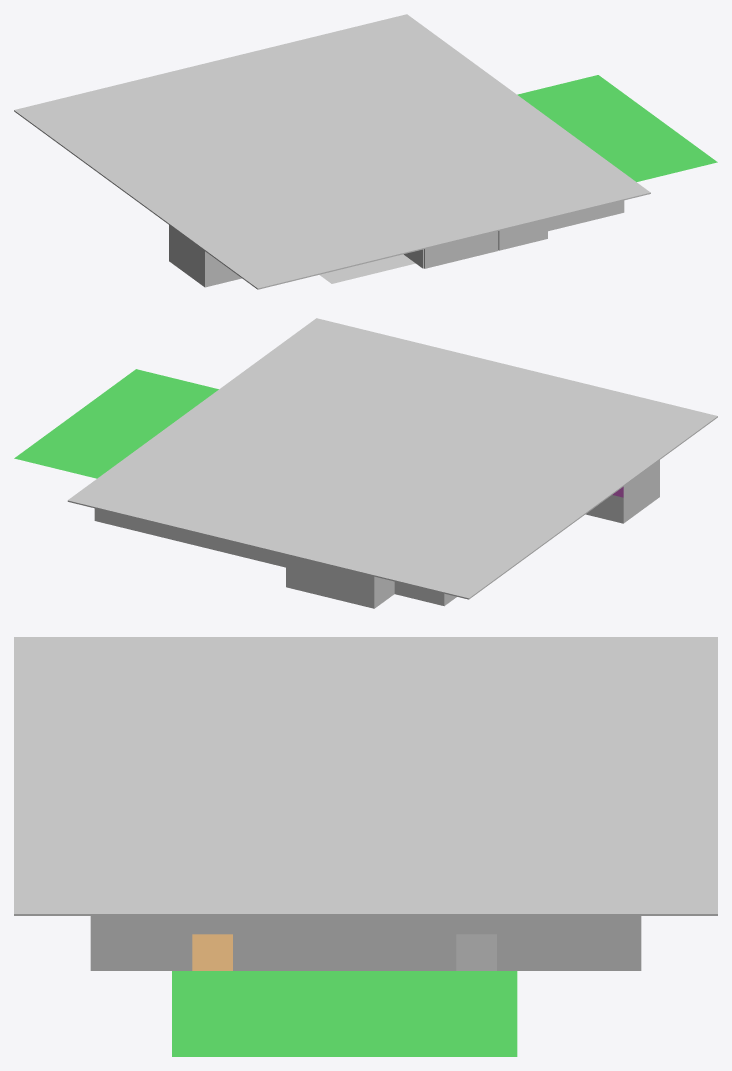
The model's file is GrandmaMap.fbx.
The picture shows the model from 3 angles, top to bottom: view 1: azimuth 30°, elevation 25°; view 2: azimuth 150°, elevation 25°; view 3: azimuth 270°, elevation 25°; orthographic projection. The views are drawn at different scales.
Visible parts, largest first — view 1: Plane; view 2: Plane; view 3: Plane.
Boxes of the visible parts, x1,y1,x2,y2 form: Plane: [14, 14, 717, 289]; Plane: [14, 318, 717, 608]; Plane: [14, 637, 717, 1056].
Size of the model in its own units: 4225 by 310 by 3466.
